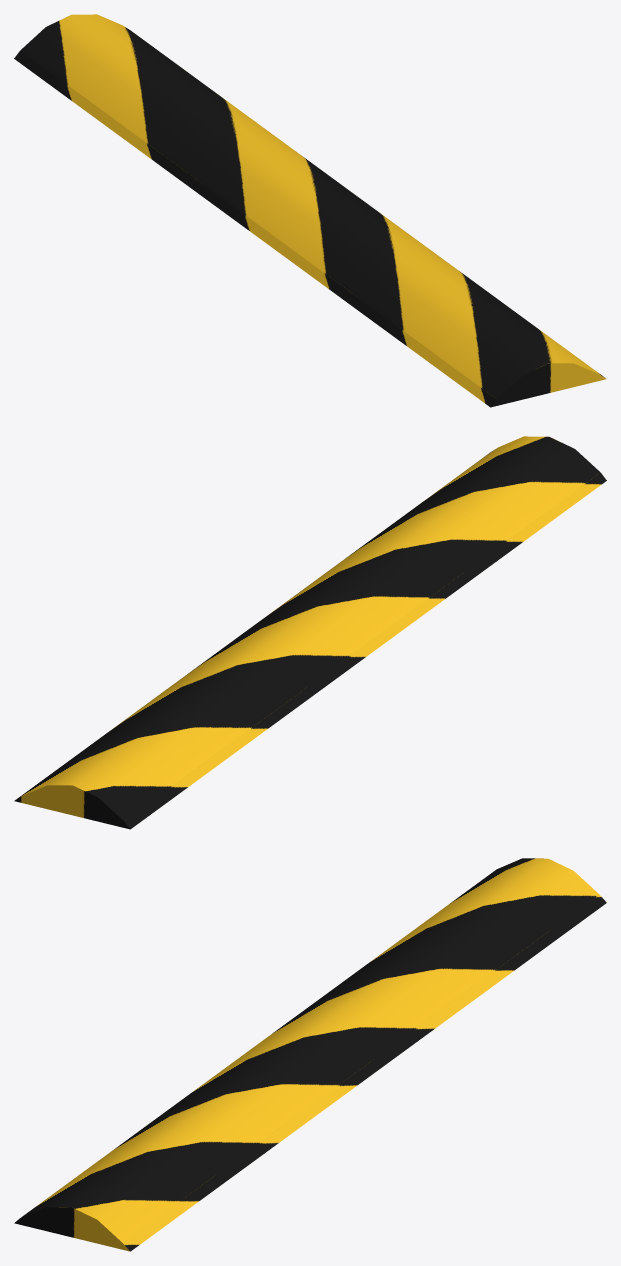
File: speedbump.fbx
3 renders of one model, top to bottom at view 1: azimuth 30°, elevation 25°; view 2: azimuth 150°, elevation 25°; view 3: azimuth 330°, elevation 25°, orthographic.
Parts seen in each view (by area): view 1: Box010; view 2: Box010; view 3: Box010.
Boxes of the visible parts, x1,y1,x2,y2 form: Box010: (14,14,606,407); Box010: (14,436,606,829); Box010: (14,858,606,1251).
Size of the model in its own units: 13.7 by 3.37 by 97.07.
Materials: 1 (1 with a texture image).
